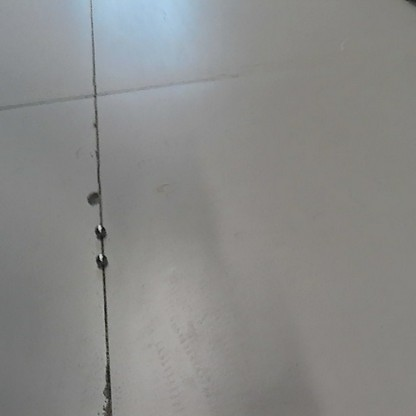ironball: (90, 220, 108, 240), (92, 251, 109, 269)
